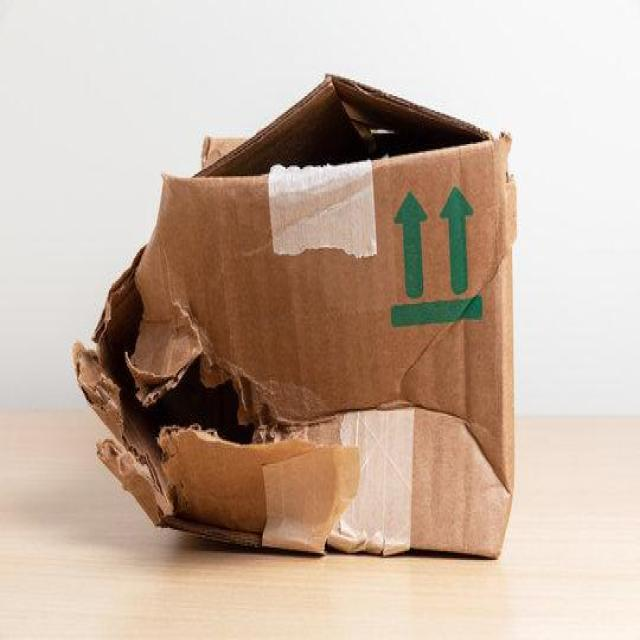cardboard: (72, 74, 518, 562)
